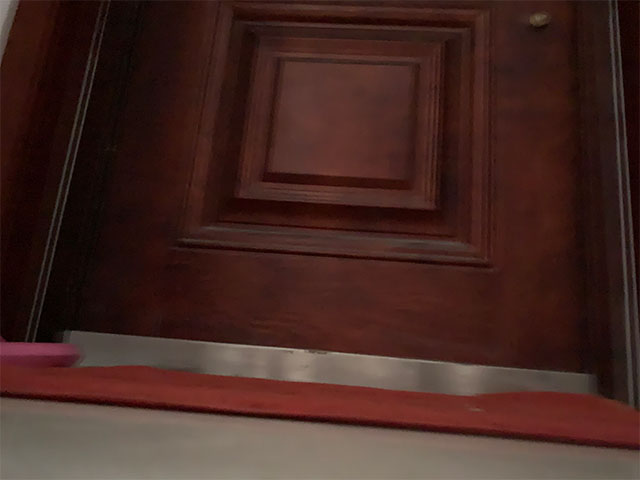carpet: (1, 365, 640, 456)
